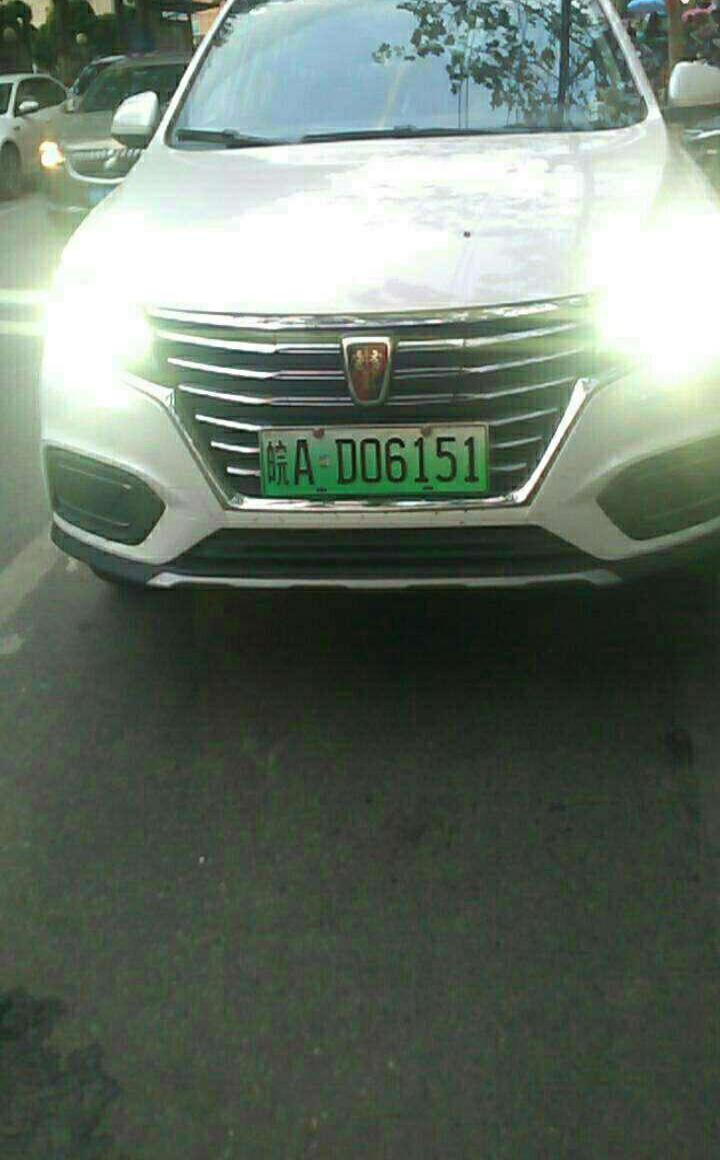car_green: (256, 422, 500, 501)
